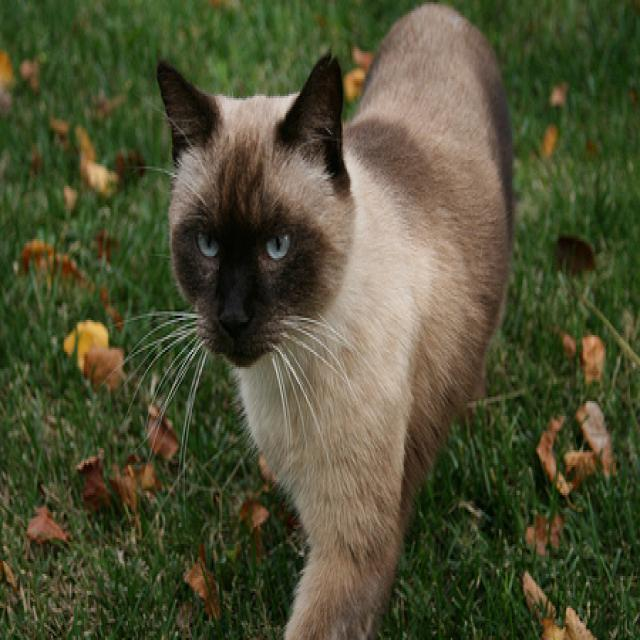Siamese: (151, 0, 516, 640)
